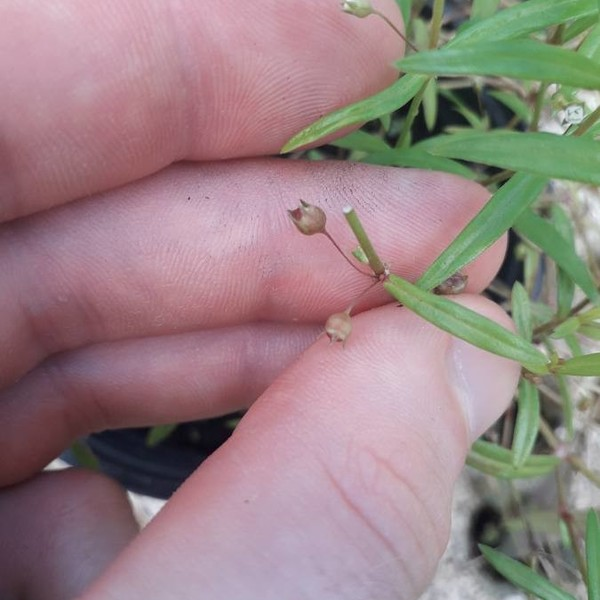obstacle: (323, 33, 586, 402)
